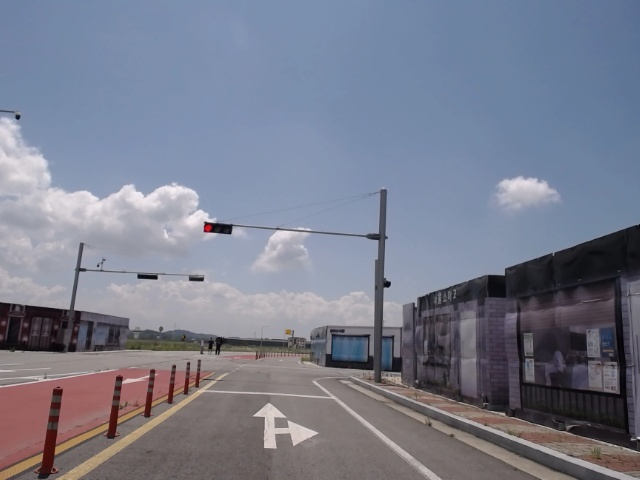red_3: (203, 221, 235, 236)
